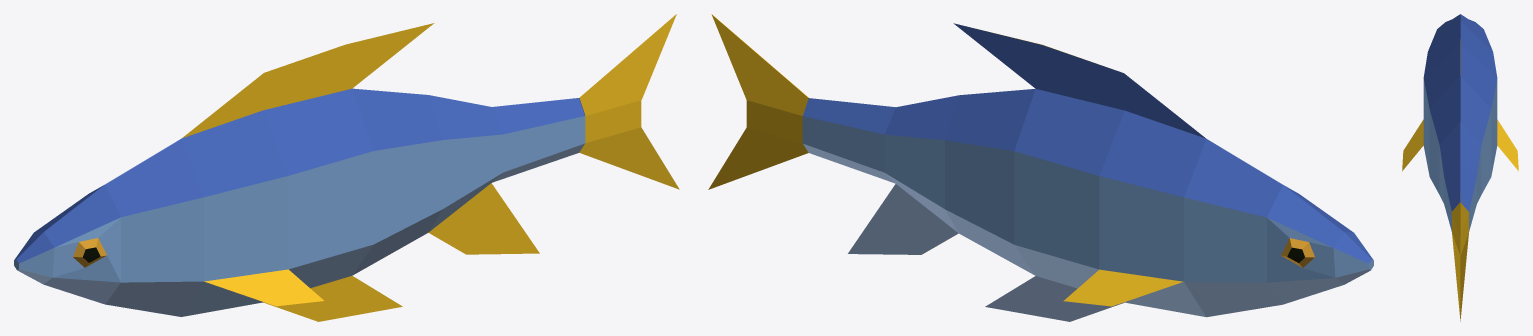
The model's file is YellowfinTuna.fbx.
3 renders of one model, left to right at view 1: azimuth 30°, elevation 25°; view 2: azimuth 150°, elevation 25°; view 3: azimuth 270°, elevation 25°, orthographic. The views are drawn at different scales.
Parts seen in each view (by area): view 1: fish; view 2: fish; view 3: fish.
Part boxes in pixels (<box>): fish: <box>14,14,679,321</box>; fish: <box>708,14,1373,321</box>; fish: <box>1402,14,1518,321</box>.
Size of the model in its own units: 0.063 by 0.1188 by 0.2985.
